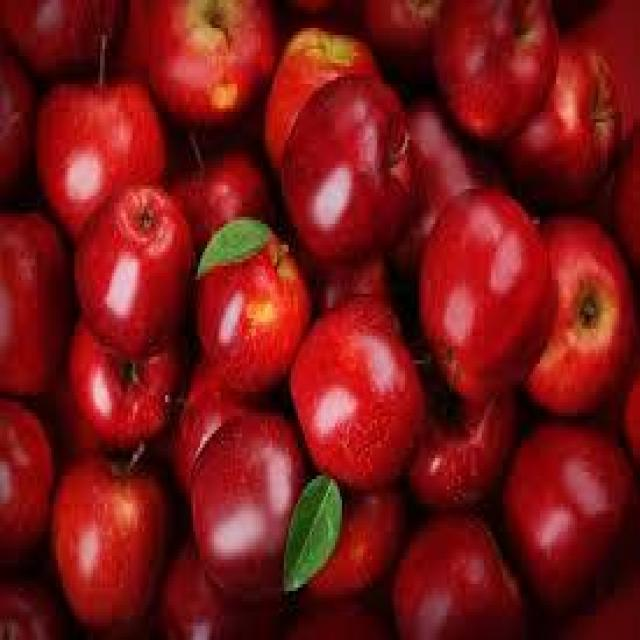apple: (295, 287, 433, 493), (54, 458, 165, 640), (447, 192, 540, 396), (298, 102, 403, 270), (531, 416, 619, 595), (39, 74, 156, 200), (210, 420, 296, 591), (444, 0, 551, 136), (88, 214, 191, 354), (58, 329, 179, 444), (2, 200, 63, 396), (142, 7, 261, 105), (302, 493, 412, 598), (405, 528, 503, 640), (202, 262, 288, 368), (0, 406, 58, 563), (177, 130, 263, 228), (279, 31, 377, 116), (414, 105, 475, 241), (559, 242, 619, 374), (561, 39, 607, 192), (12, 7, 128, 66), (444, 416, 510, 507), (335, 252, 400, 325), (279, 594, 391, 636), (370, 7, 456, 52)
